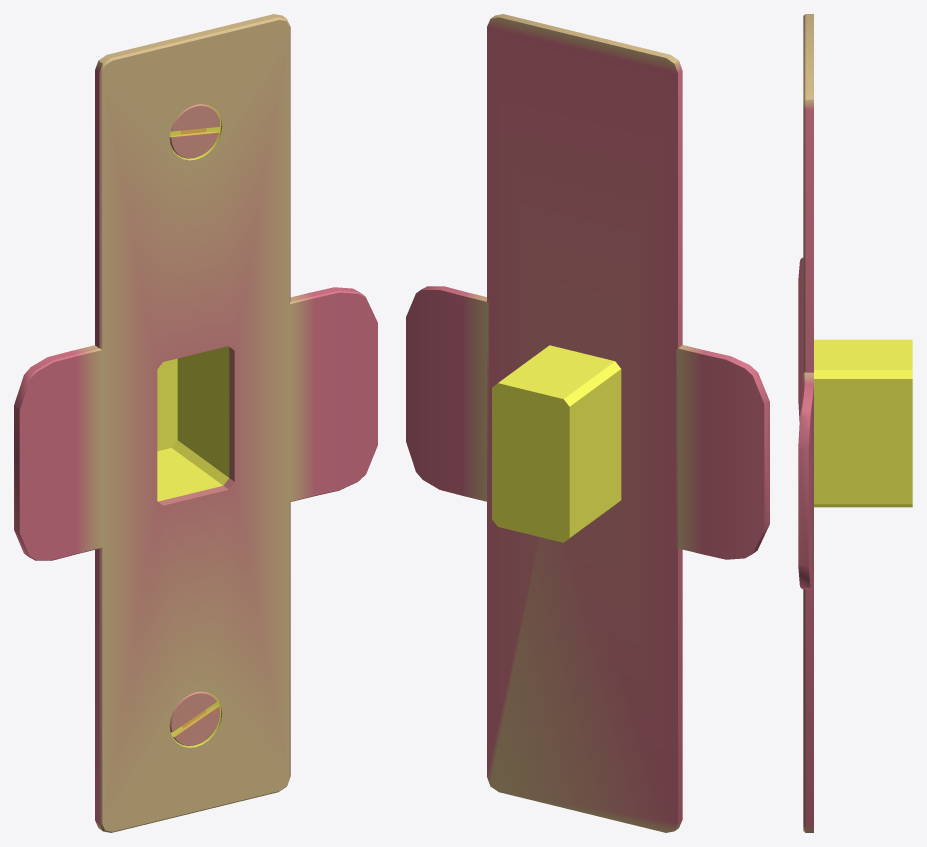
Rendered from Kit_Lock_StrikeBored_Brass_DA.fbx.
The picture shows the model from 3 angles, left to right: view 1: azimuth 30°, elevation 25°; view 2: azimuth 150°, elevation 25°; view 3: azimuth 270°, elevation 25°; orthographic projection. The views are drawn at different scales.
Visible parts, largest first — view 1: Kit_Lock_StrikeBored_DA_LOD0; view 2: Kit_Lock_StrikeBored_DA_LOD0; view 3: Kit_Lock_StrikeBored_DA_LOD0.
Boxes of the visible parts, x1,y1,x2,y2 form: Kit_Lock_StrikeBored_DA_LOD0: (14,14,377,832); Kit_Lock_StrikeBored_DA_LOD0: (406,14,769,832); Kit_Lock_StrikeBored_DA_LOD0: (798,14,912,832).
Size of what is drawn, in the model's own units: 0.06 by 0.124 by 0.0174.
